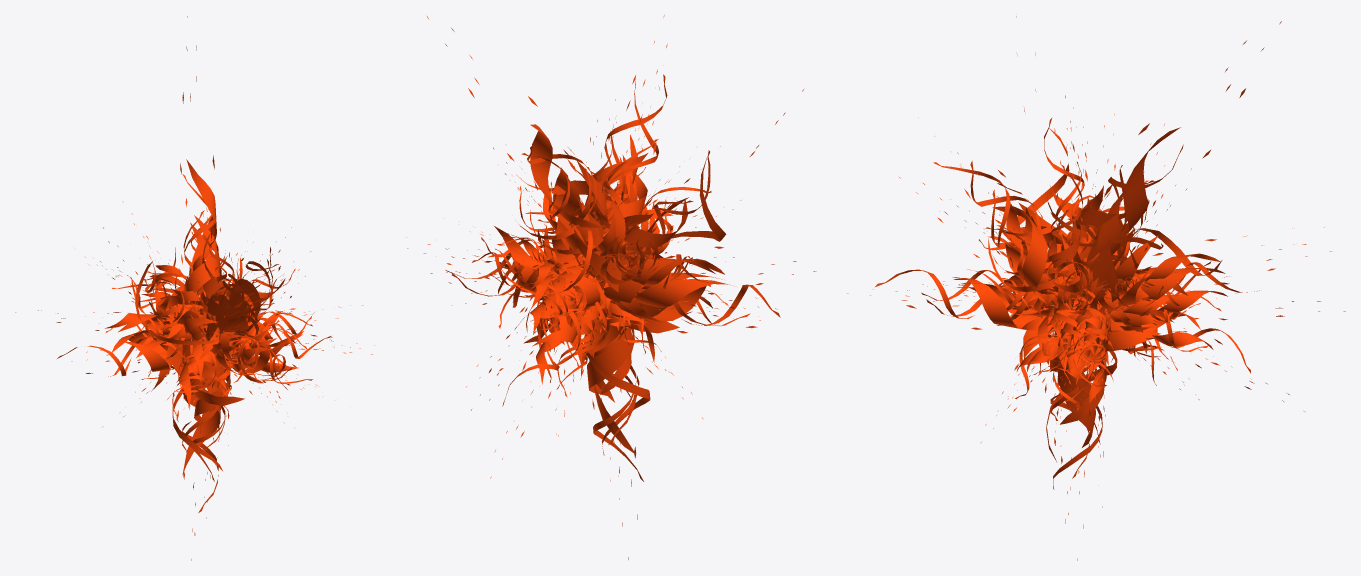
File: fireball_09.obj
3 views of the same model, side by side, from view 1: azimuth 30°, elevation 25°; view 2: azimuth 150°, elevation 25°; view 3: azimuth 270°, elevation 25° (orthographic). The views are drawn at different scales.
Visible parts, largest first — view 1: Fireball; view 2: Fireball; view 3: Fireball.
Boxes of the visible parts, x1,y1,x2,y2 form: Fireball: [15, 16, 374, 560]; Fireball: [407, 15, 816, 559]; Fireball: [847, 16, 1345, 560].
Bounding box in the file's own units: 1.73 × 2.28 × 1.76.
